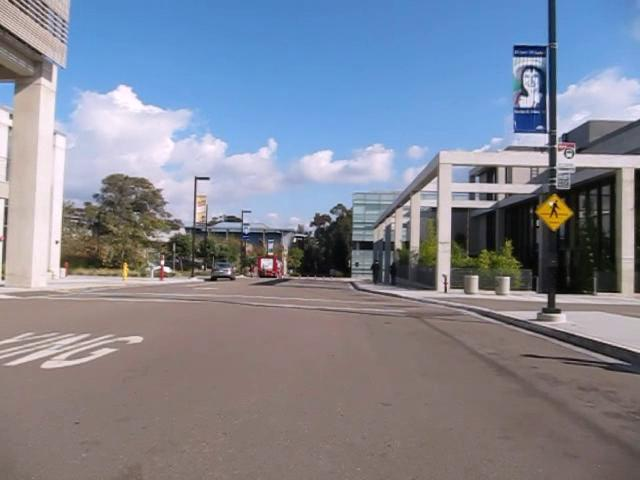pedestrianCrossing: (533, 192, 574, 232)
